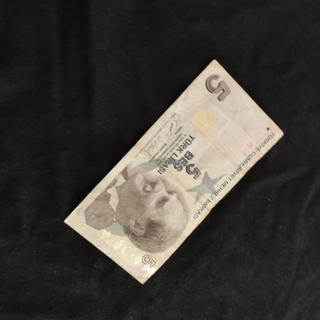5TLFront: (63, 57, 285, 284)
